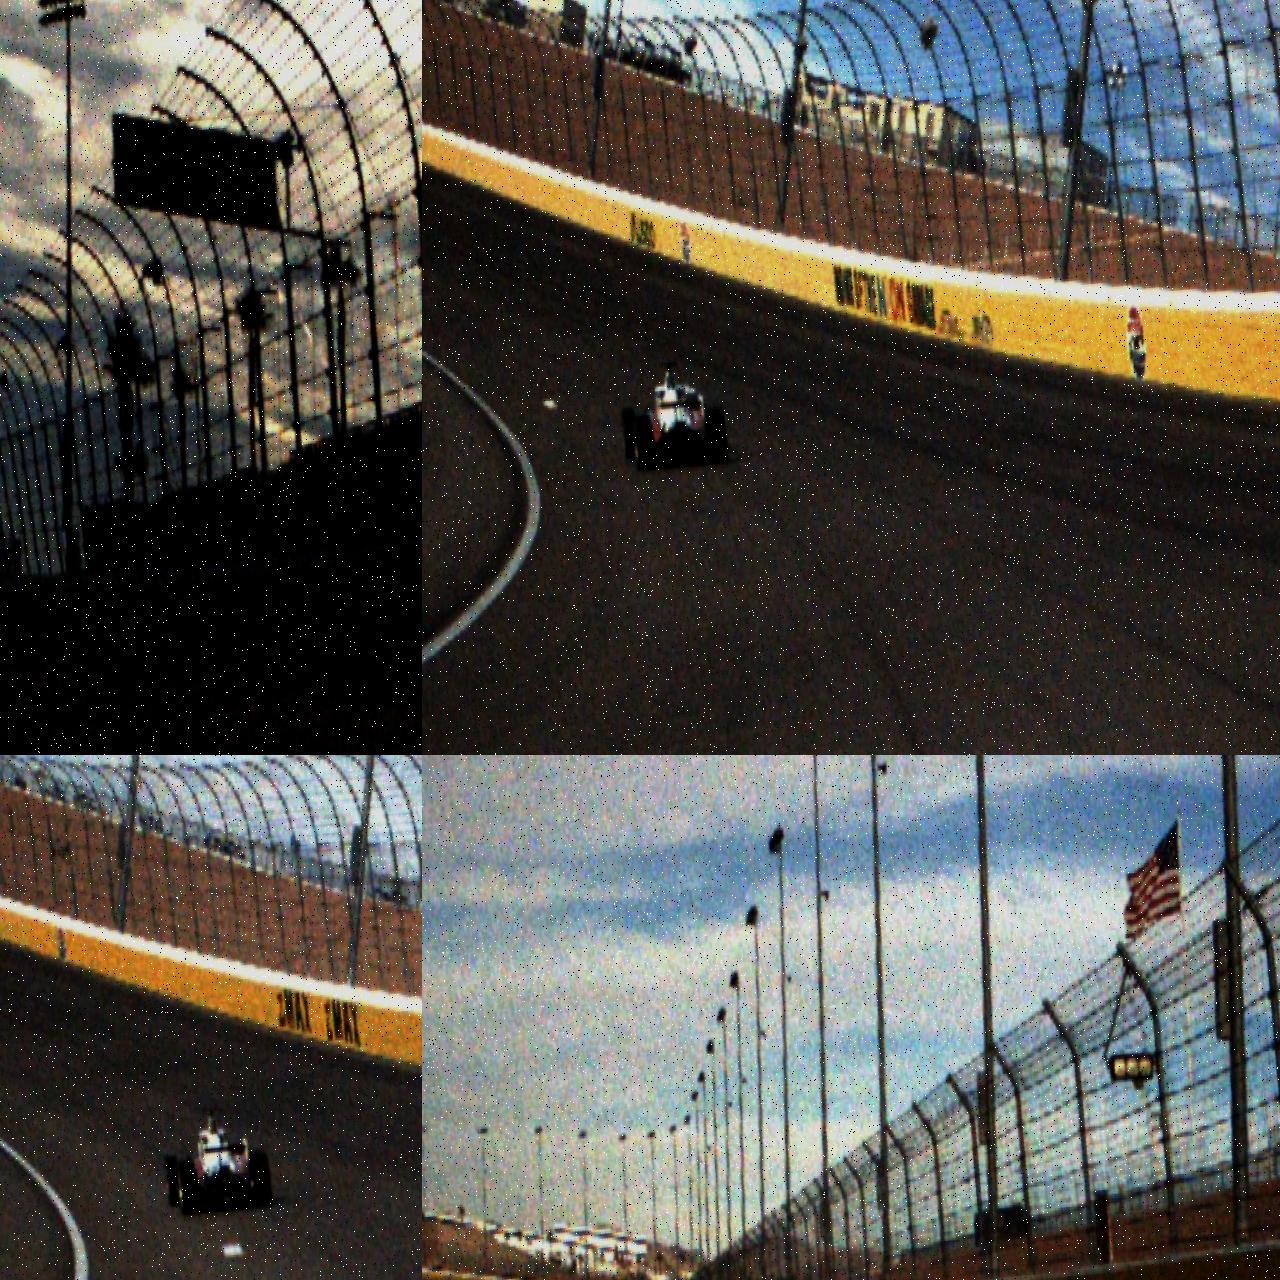AV: (617, 355, 730, 474), (159, 1101, 274, 1216)
Wheel: (706, 407, 729, 465), (633, 415, 656, 472), (177, 1157, 200, 1214), (251, 1149, 273, 1208), (621, 406, 640, 459), (163, 1155, 182, 1208)
